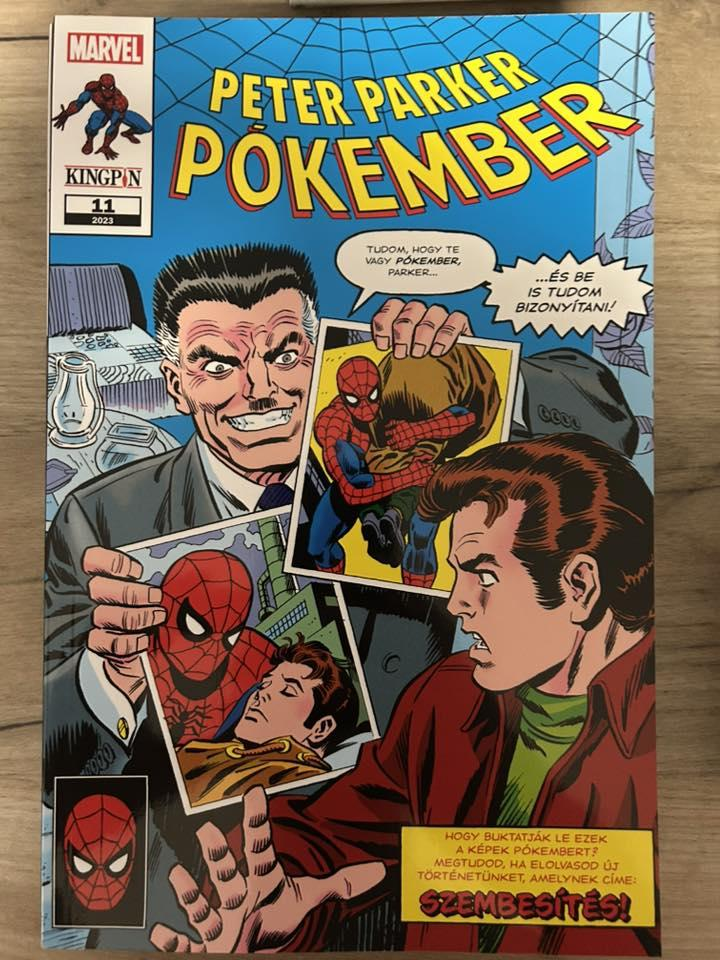comic: (36, 13, 659, 960)
